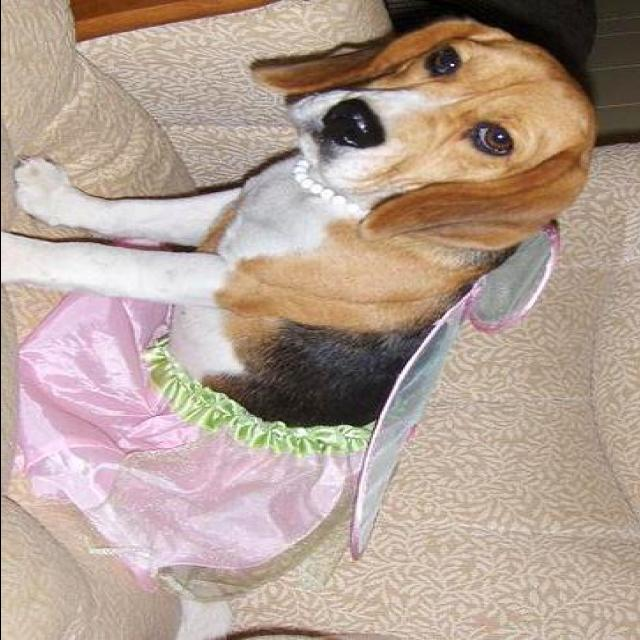beagle: (4, 18, 606, 638)
